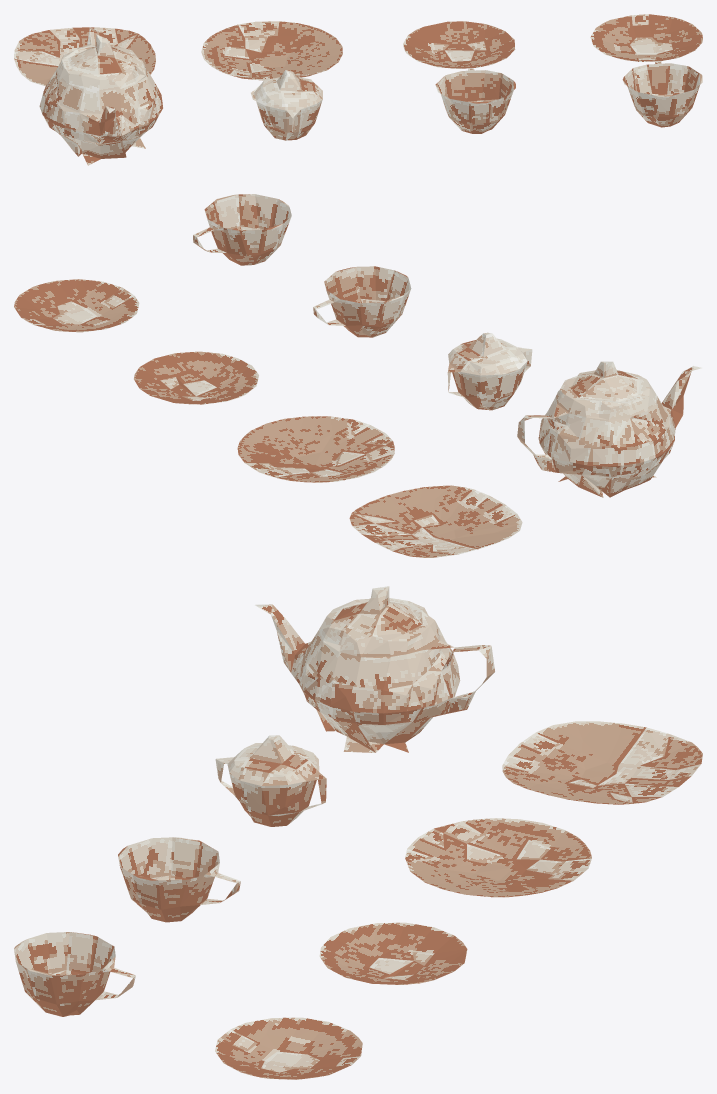
The model's file is teaset.glb.
The picture shows the model from 3 angles, top to bottom: view 1: azimuth 30°, elevation 25°; view 2: azimuth 150°, elevation 25°; view 3: azimuth 270°, elevation 25°; orthographic projection. The views are drawn at different scales.
Parts seen in each view (by area): view 1: model_m; view 2: model_m; view 3: model_m.
Part boxes in pixels (x1,y1,x2,y2): model_m: [14, 14, 702, 165]; model_m: [14, 194, 701, 557]; model_m: [14, 586, 702, 1079].
Size of the model in its own units: 42.42 by 7.32 by 31.37.
Materials: 1 (1 with a texture image).
